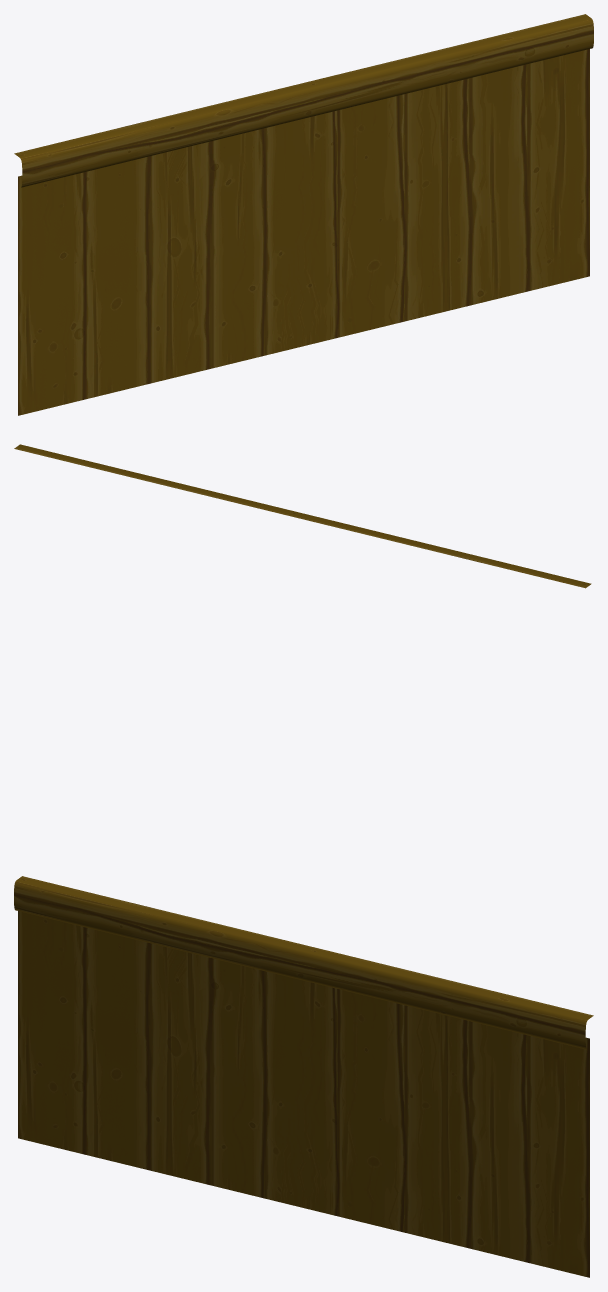
The model's file is SM_wooden_panel_01.glb.
3 renders of one model, top to bottom at view 1: azimuth 30°, elevation 25°; view 2: azimuth 150°, elevation 25°; view 3: azimuth 330°, elevation 25°, orthographic.
Visible parts, largest first — view 1: SM_wooden_panel_01; view 2: SM_wooden_panel_01; view 3: SM_wooden_panel_01.
Boxes of the visible parts, <box> form: SM_wooden_panel_01: <box>14,14,593,415</box>; SM_wooden_panel_01: <box>14,444,591,588</box>; SM_wooden_panel_01: <box>14,876,593,1277</box>.
Size of the model in its own units: 3 by 1.3 by 0.075.
Materials: 1 (1 with a texture image).
